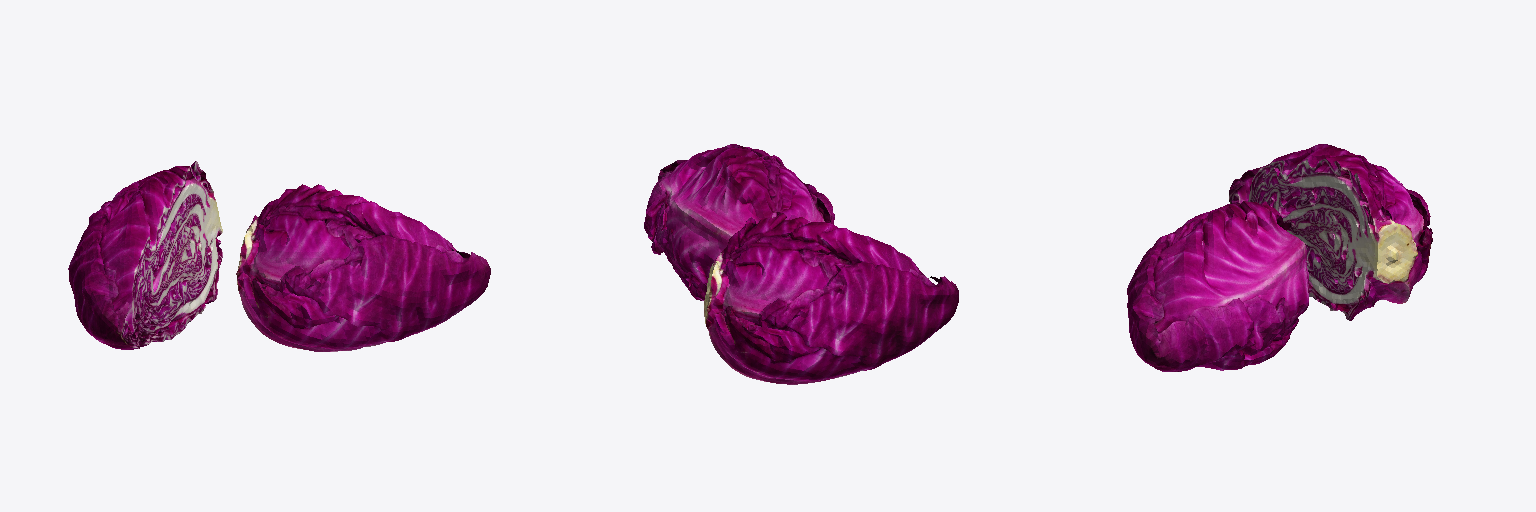
The picture shows the model from 3 angles: view 1: azimuth 30°, elevation 25°; view 2: azimuth 150°, elevation 25°; view 3: azimuth 270°, elevation 25°; orthographic projection.
Parts seen in each view (by area): view 1: Red_pointed_cabbage, Red_pointed_cabbage_half; view 2: Red_pointed_cabbage_half, Red_pointed_cabbage; view 3: Red_pointed_cabbage, Red_pointed_cabbage_half.
Boxes of the visible parts, x1,y1,x2,y2 form: Red_pointed_cabbage: [236, 184, 490, 351]; Red_pointed_cabbage_half: [68, 161, 222, 349]; Red_pointed_cabbage_half: [704, 213, 958, 384]; Red_pointed_cabbage: [644, 144, 834, 300]; Red_pointed_cabbage: [1127, 201, 1308, 371]; Red_pointed_cabbage_half: [1229, 144, 1432, 320].
Size of the model in its own units: 4.65 by 1.92 by 3.58.
2 materials, 2 textured.